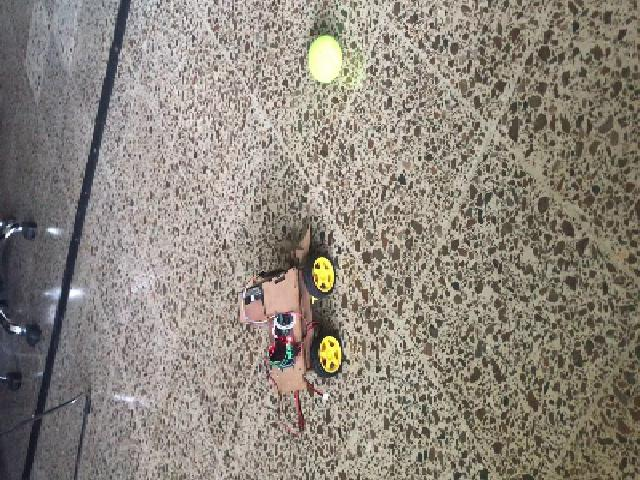Ball: (307, 37, 342, 82)
Robot: (237, 224, 344, 395)
